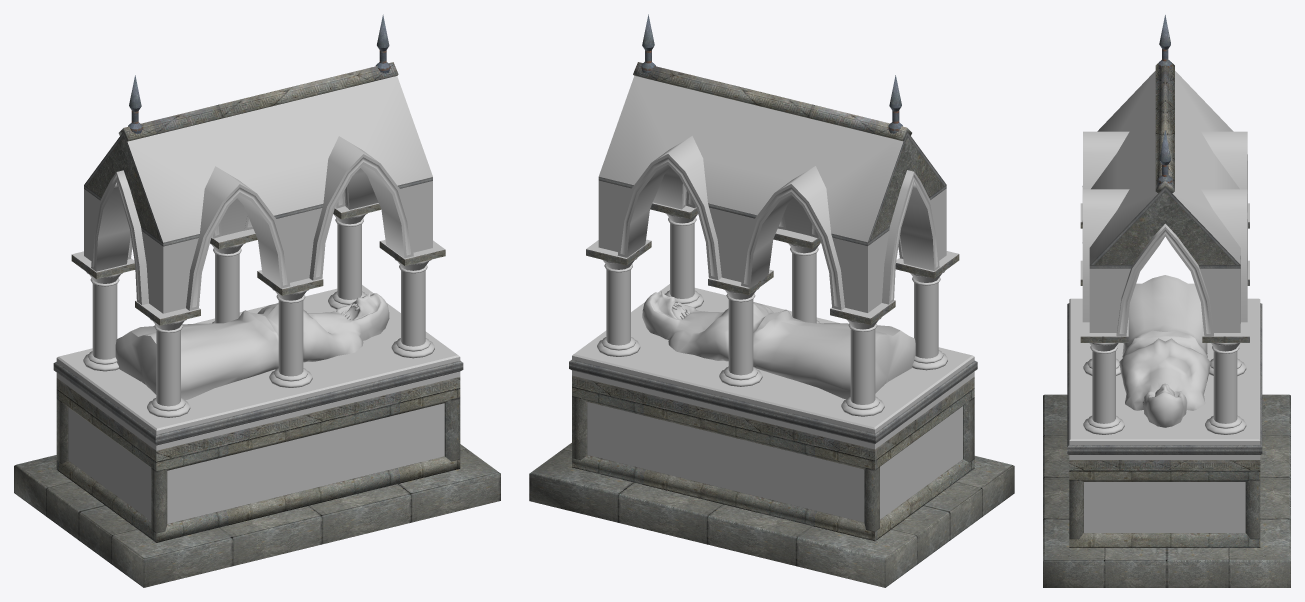
File: Tomb_1.FBX
The picture shows the model from 3 angles, left to right: view 1: azimuth 30°, elevation 25°; view 2: azimuth 150°, elevation 25°; view 3: azimuth 270°, elevation 25°; orthographic projection. The views are drawn at different scales.
Parts seen in each view (by area): view 1: Box25; view 2: Box25; view 3: Box25.
Part boxes in pixels (box(x1,y1,x2,y2)): Box25: box(14, 14, 500, 587); Box25: box(529, 14, 1014, 587); Box25: box(1043, 15, 1290, 587).
Bounding box in the file's own units: 674 × 818 × 424.
